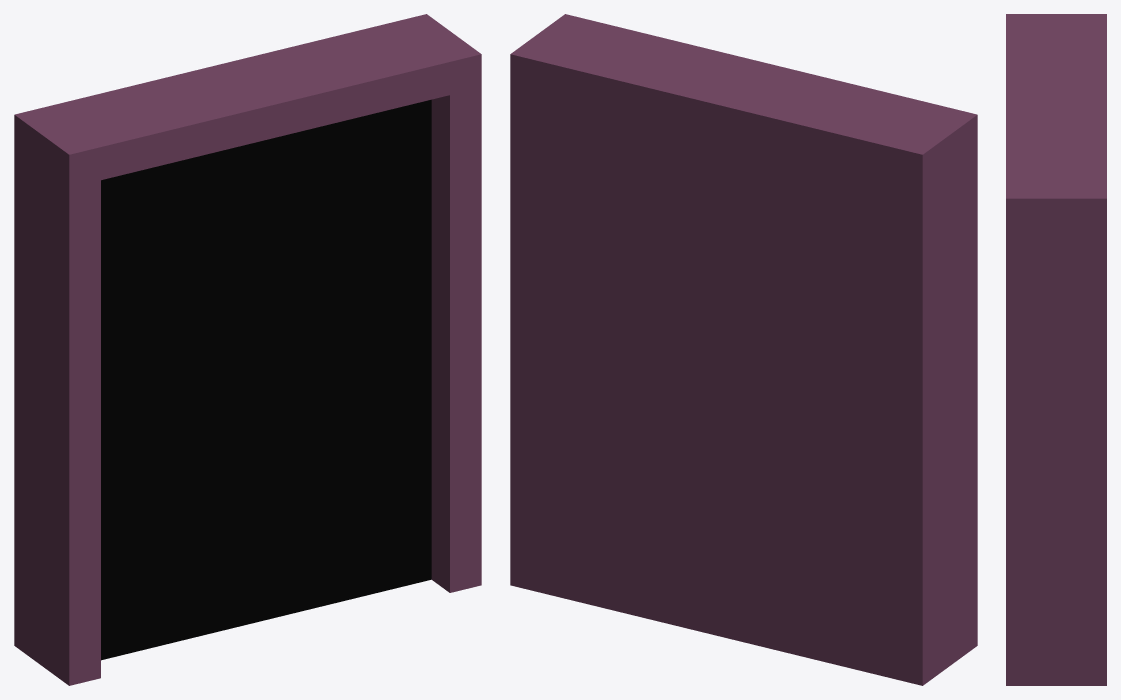
Rendered from dungeon_c_b_entrance_a.obj.
The picture shows the model from 3 angles, left to right: view 1: azimuth 30°, elevation 25°; view 2: azimuth 150°, elevation 25°; view 3: azimuth 270°, elevation 25°; orthographic projection. The views are drawn at different scales.
Bounding box in the file's own units: 1.3 × 1.6 × 0.3.
Materials: 1 (1 with a texture image).
